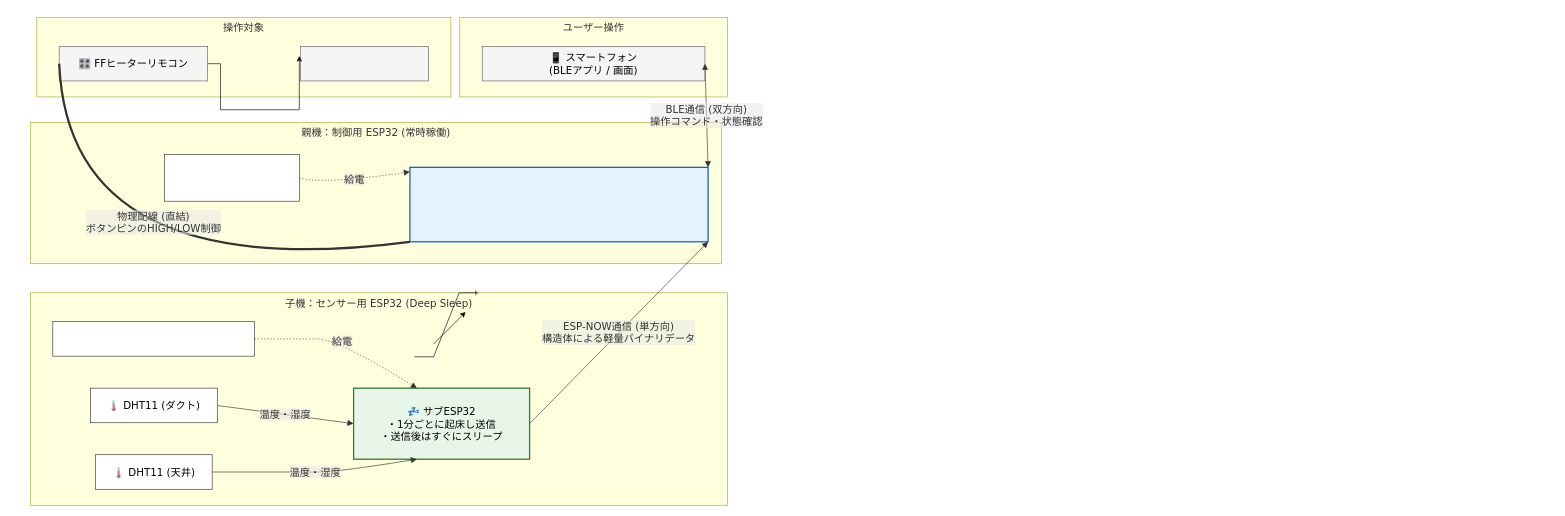
This 1565x516 diagram has some shape labels left out. The shapes that lost their labels are listed below. From the top down, each one's centre as x and y in pixels, then its label:
At pixel 364 63: "🔥 FFヒーター本体".
At pixel 231 177: "🔌 常時電源 (ポータブル電源 / DC-DC等)".
At pixel 558 204: "🧠 メインESP32 ・BLE ⇔ スマホ ・ESP-NOW ⇔ センサー ・タイムアウト監視(フェイルセーフ)".
At pixel 153 338: "🔋 18650バッテリー (長寿命駆動)".
